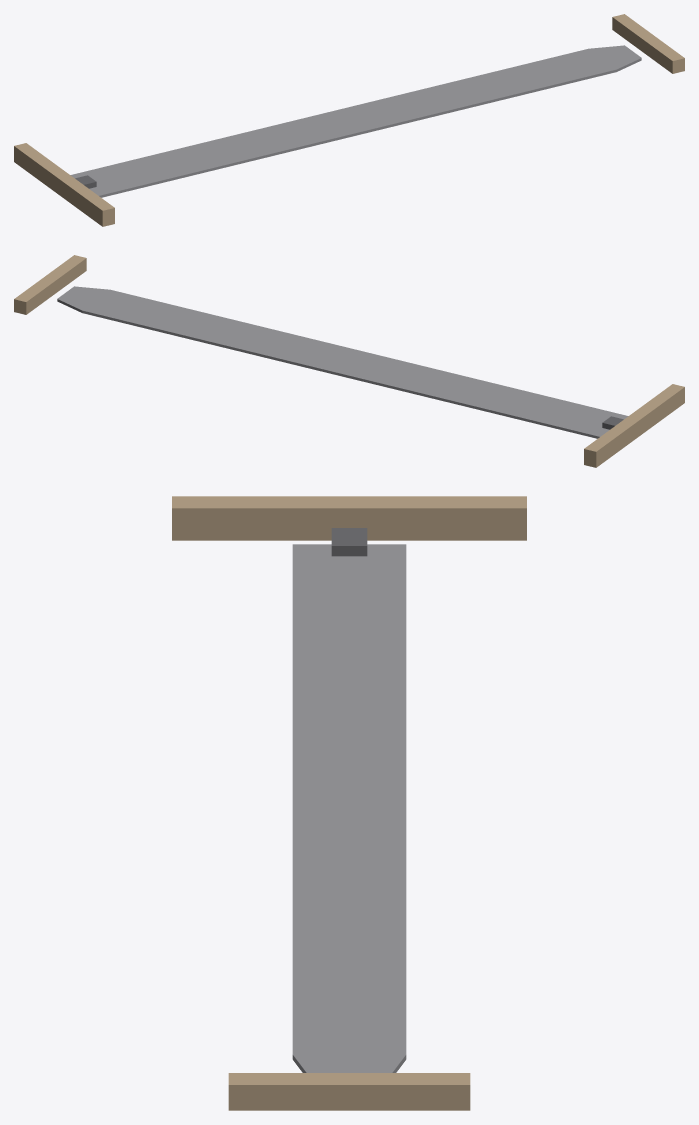
The model's file is prop-pit-saw-blank.fbx.
The picture shows the model from 3 angles, top to bottom: view 1: azimuth 30°, elevation 25°; view 2: azimuth 150°, elevation 25°; view 3: azimuth 270°, elevation 25°; orthographic projection. The views are drawn at different scales.
Parts seen in each view (by area): view 1: prop-pit-saw-blank; view 2: prop-pit-saw-blank; view 3: prop-pit-saw-blank.
Part boxes in pixels (x1,y1,x2,y2): prop-pit-saw-blank: (14, 14, 684, 226); prop-pit-saw-blank: (14, 255, 684, 467); prop-pit-saw-blank: (172, 496, 526, 1110).
Bounding box in the file's own units: 194 × 5 × 50.
